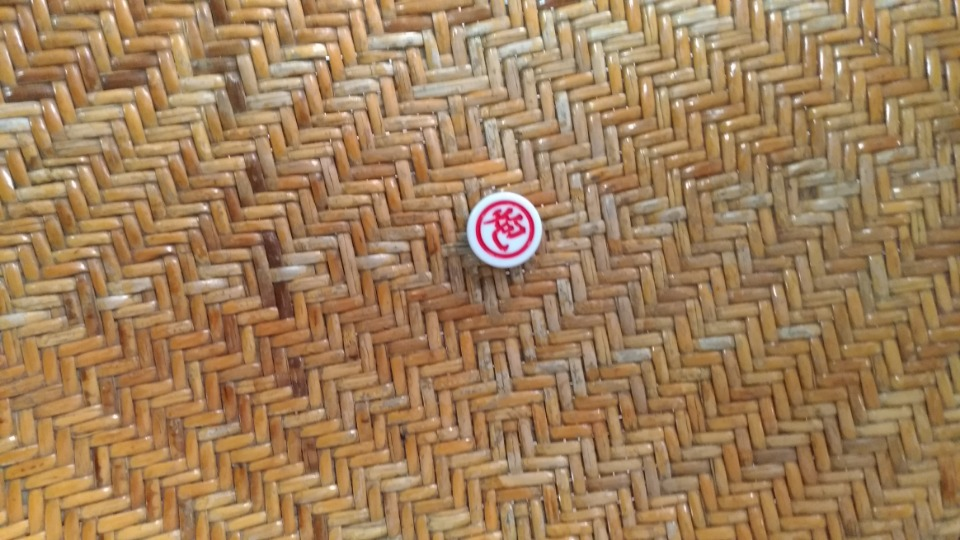r-cannon: (454, 182, 560, 273)
